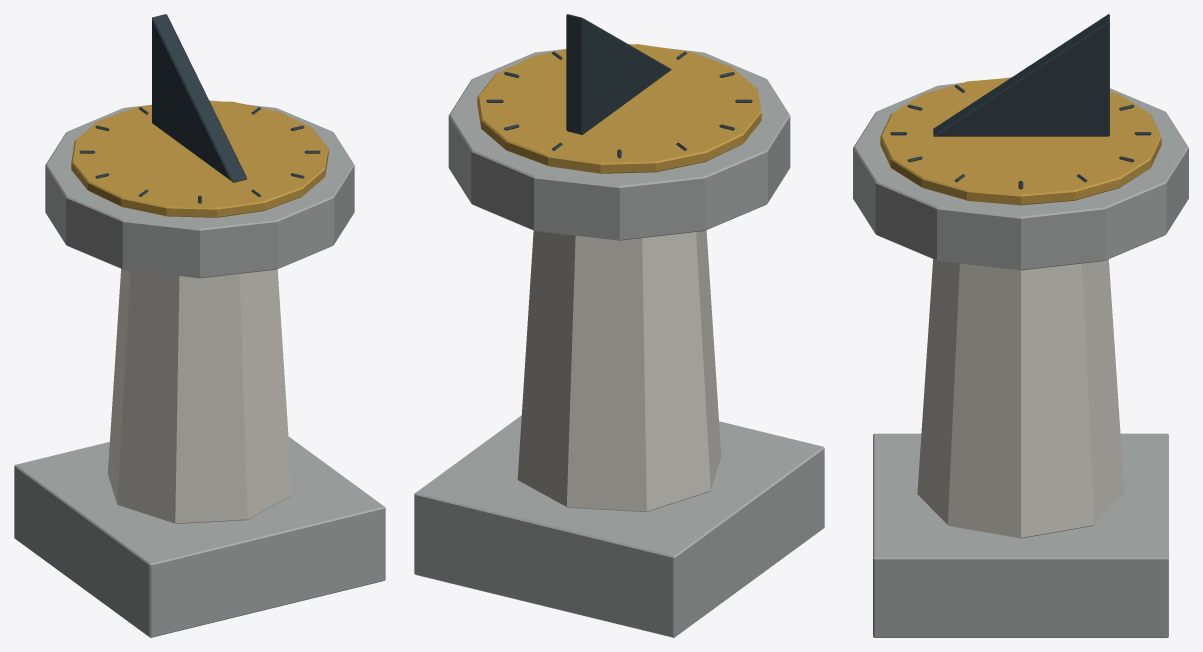
Rendered from b18_stone_pedestal_sundial.glb.
3 views of the same model, side by side, from view 1: azimuth 30°, elevation 25°; view 2: azimuth 150°, elevation 25°; view 3: azimuth 270°, elevation 25° (orthographic). The views are drawn at different scales.
Visible parts, largest first — view 1: b18_stone_pedestal_sundial; view 2: b18_stone_pedestal_sundial; view 3: b18_stone_pedestal_sundial.
Part boxes in pixels (x1,y1,x2,y2): b18_stone_pedestal_sundial: [14, 14, 385, 637]; b18_stone_pedestal_sundial: [414, 14, 824, 637]; b18_stone_pedestal_sundial: [853, 14, 1188, 637].
Size of the model in its own units: 0.68 by 1.25 by 0.68.
